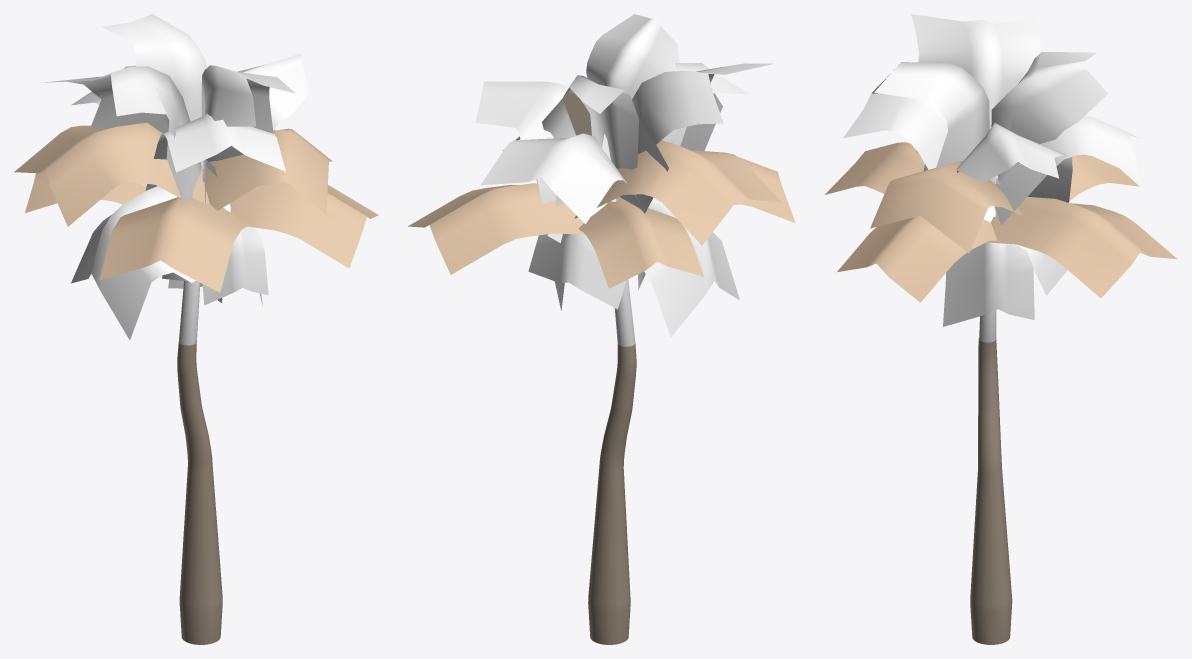
Rendered from palm_1_mesh_lod_0.fbx.
3 renders of one model, left to right at view 1: azimuth 30°, elevation 25°; view 2: azimuth 150°, elevation 25°; view 3: azimuth 270°, elevation 25°, orthographic. The views are drawn at different scales.
Parts seen in each view (by area): view 1: Cylinder.000; view 2: Cylinder.000; view 3: Cylinder.000.
Boxes of the visible parts, <box> form: Cylinder.000: <box>14,14,378,644</box>; Cylinder.000: <box>408,14,795,644</box>; Cylinder.000: <box>825,14,1176,644</box>.
Bounding box in the file's own units: 212 × 398 × 222.
